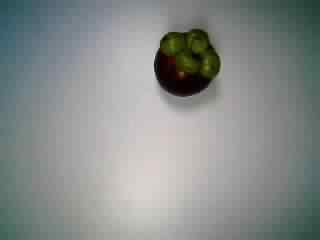mangosteen: (150, 26, 220, 100)
